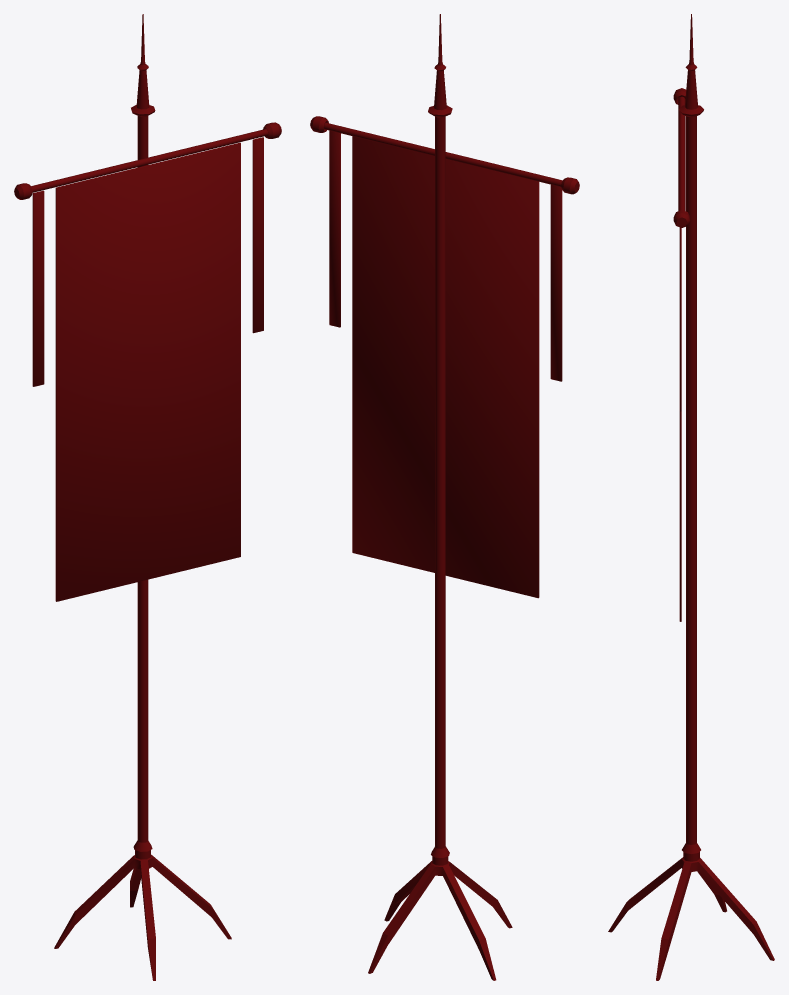
Rendered from banner_final.fbx.
3 renders of one model, left to right at view 1: azimuth 30°, elevation 25°; view 2: azimuth 150°, elevation 25°; view 3: azimuth 270°, elevation 25°, orthographic.
Visible parts, largest first — view 1: banner; view 2: banner; view 3: banner.
Boxes of the visible parts, x1,y1,x2,y2 form: banner: [14, 14, 281, 980]; banner: [310, 14, 579, 980]; banner: [608, 14, 774, 980].
Size of the model in its own units: 55.35 by 187 by 30.43.
